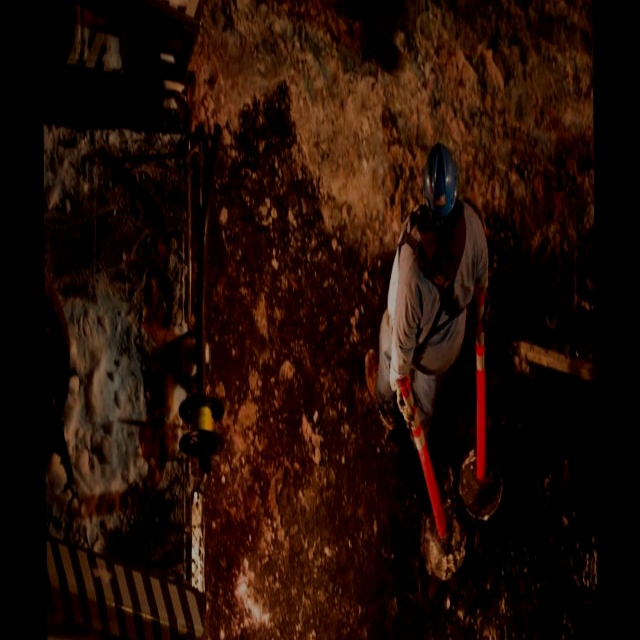Con_Casco: (424, 141, 459, 219)
